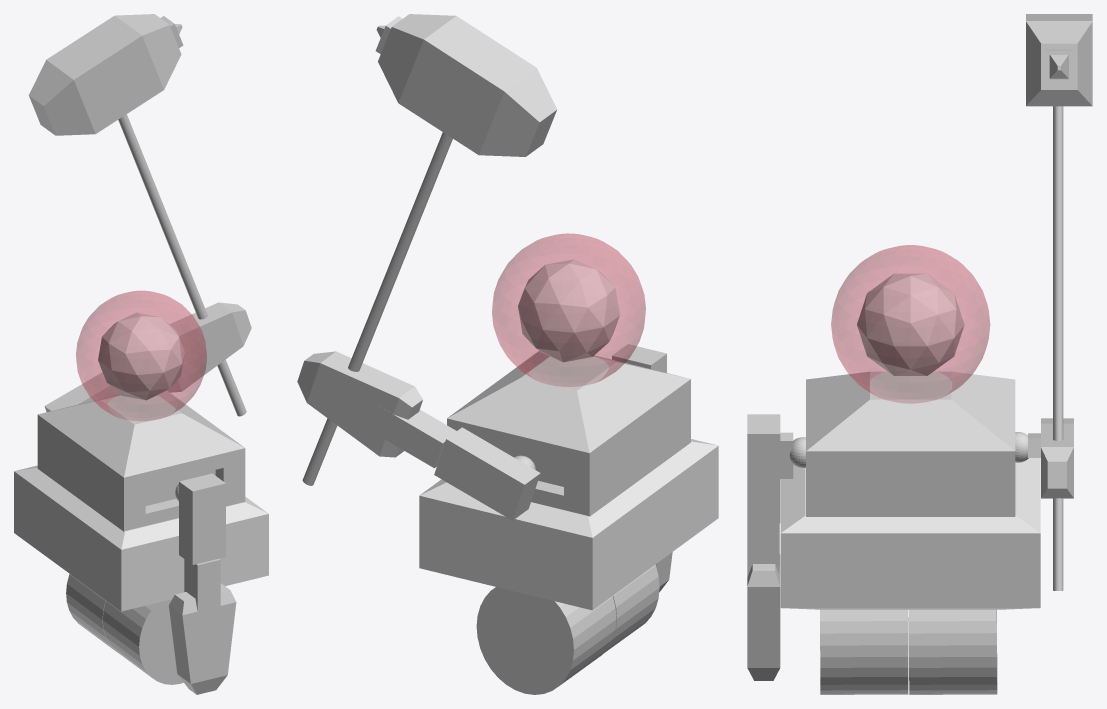
The model's file is hammerguy.glb.
3 renders of one model, left to right at view 1: azimuth 30°, elevation 25°; view 2: azimuth 150°, elevation 25°; view 3: azimuth 270°, elevation 25°, orthographic. The views are drawn at different scales.
Parts seen in each view (by area): view 1: upper body, body, Sphere, Cube.004, Icosphere, Cube.008, Cylinder.002, Cube.003, Cube.006, Cylinder, Cube.007, Cylinder.001 (+1 smaller); view 2: body, upper body, Sphere, Cube.004, Cylinder.001, Icosphere, Cube.003, Cube.001, Cylinder, Cube.002, Cylinder.002, Cube.006; view 3: upper body, body, Sphere, Icosphere, Cylinder.002, Cylinder.001, Cube.004, Cylinder, Cube.008, Cube.006, Cube.003, Cube.007 (+1 smaller).
Part boxes in pixels (x1,y1,x2,y2): upper body: (37,390,245,531); body: (14,465,268,611); Sphere: (76,291,206,420); Cube.004: (28,14,183,135); Icosphere: (98,312,184,400); Cube.008: (169,583,236,694); Cylinder.002: (102,599,183,684); Cube.003: (167,302,251,392); Cube.006: (179,473,225,564); Cylinder: (118,114,246,416); Cube.007: (184,558,220,624); Cylinder.001: (66,574,117,652); body: (419,439,718,610); upper body: (447,351,690,516); Sphere: (492,233,645,386); Cube.004: (375,14,557,156); Cylinder.001: (476,587,616,694); Icosphere: (518,259,619,362); Cube.003: (297,351,422,457); Cube.001: (434,427,540,520); Cylinder: (302,132,452,485); Cube.002: (371,407,456,468); Cylinder.002: (604,564,659,652); Cube.006: (612,344,666,372); upper body: (806,371,1015,516); body: (780,458,1040,609); Sphere: (831,245,989,403); Icosphere: (857,273,964,375); Cylinder.002: (820,609,908,694); Cylinder.001: (908,609,997,694); Cube.004: (1026,14,1092,106); Cylinder: (1053,106,1063,590); Cube.008: (747,554,780,680); Cube.006: (747,414,780,523); Cube.003: (1041,423,1073,498); Cube.007: (747,523,779,576).
Size of the model in its own units: 6.25 by 14.26 by 6.41.
